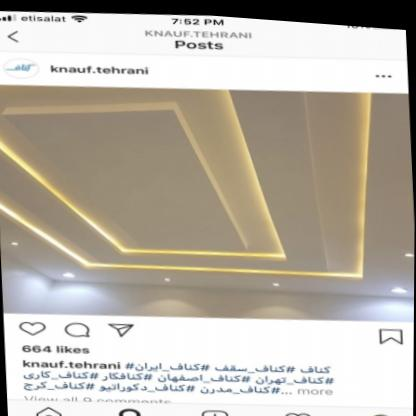Gypsum Board: (0, 61, 416, 335)
